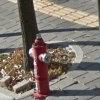a fire hydrant: (28, 35, 54, 99)
